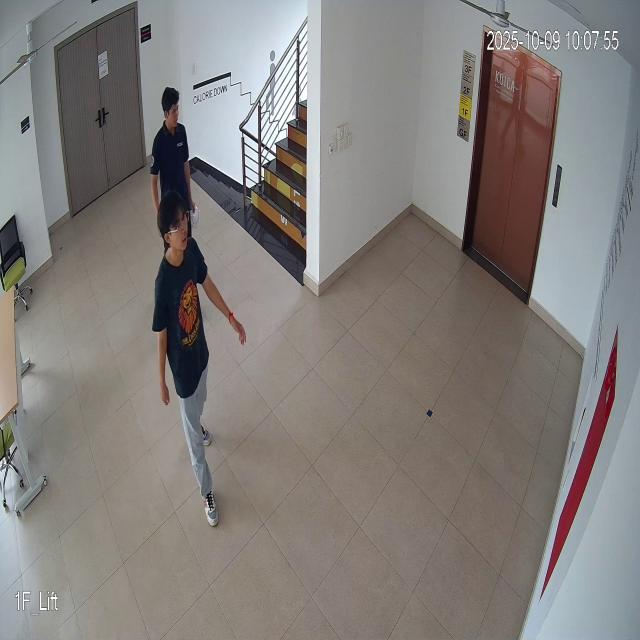face: (155, 186, 193, 264), (160, 83, 182, 134)
